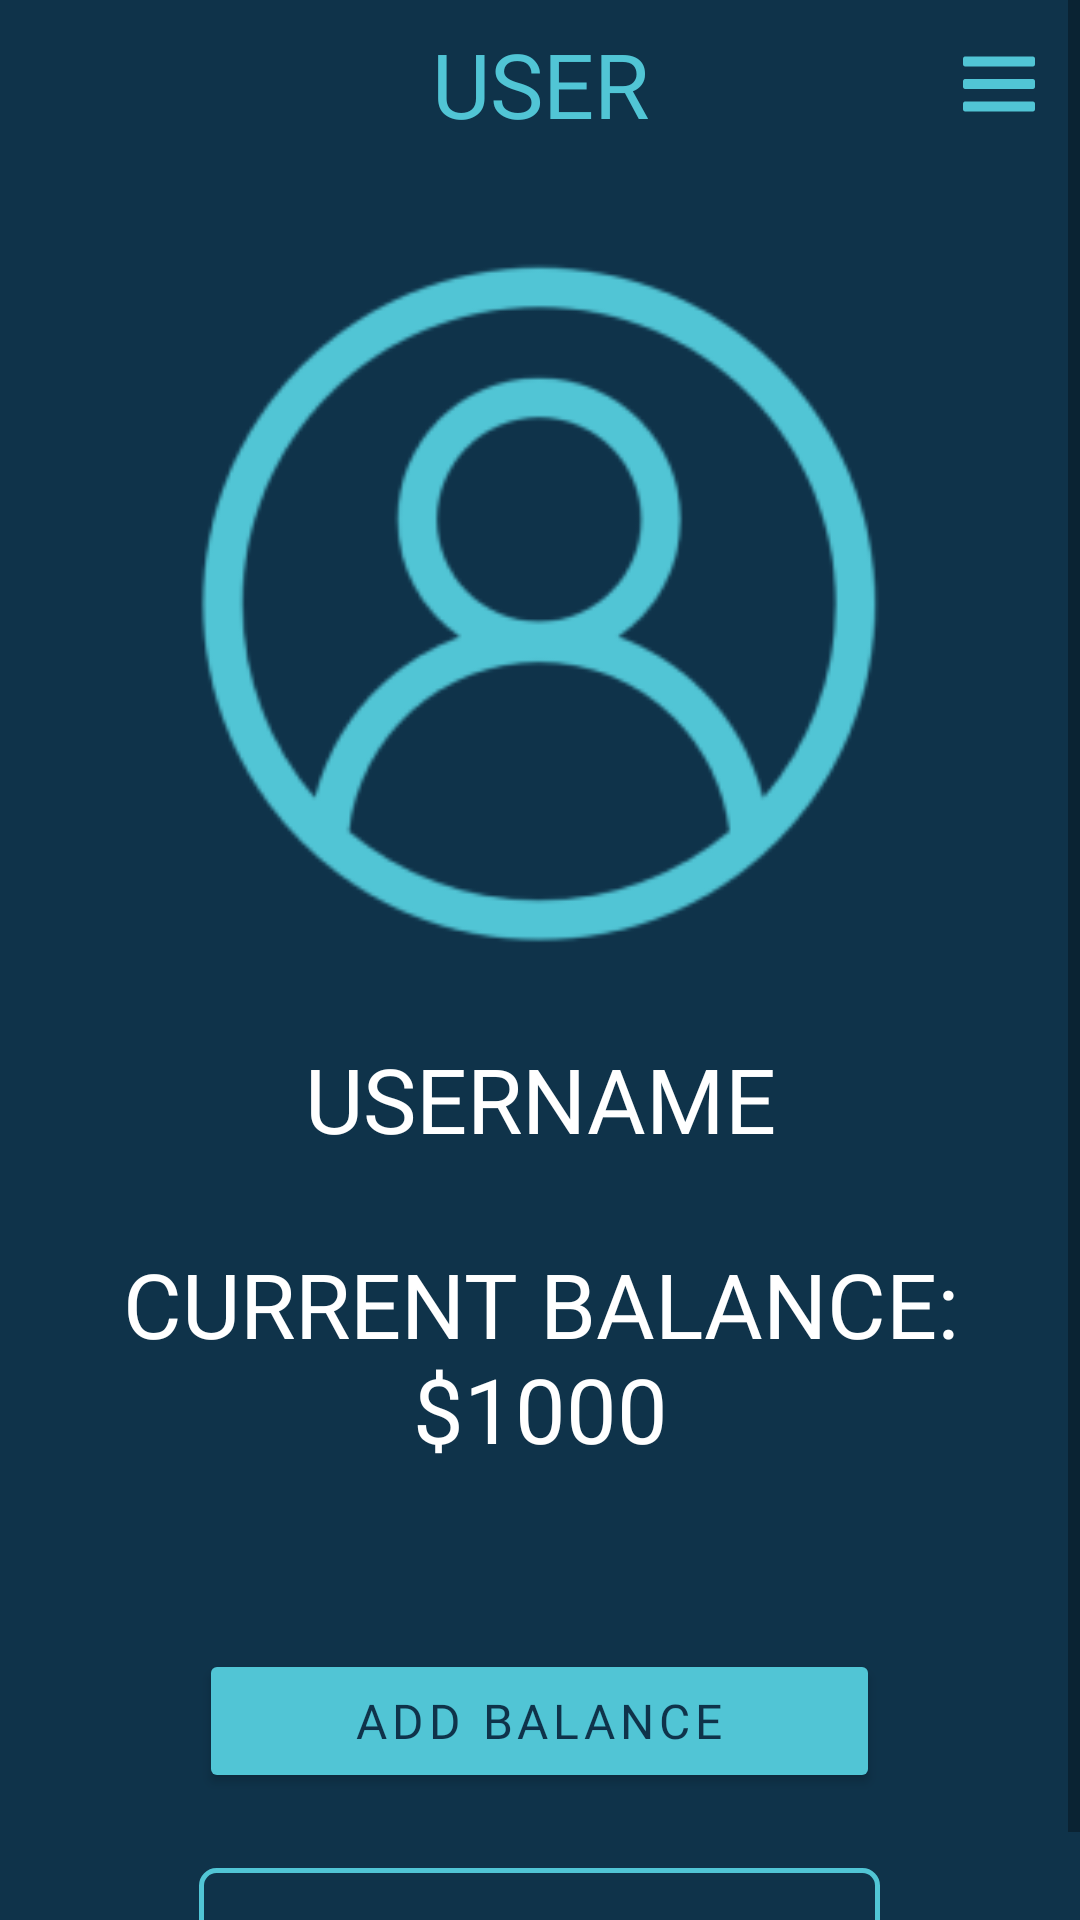

Screen size 1080px×1920px. Icon name, then its center in pixels as (x,y):
more: (999,84)
